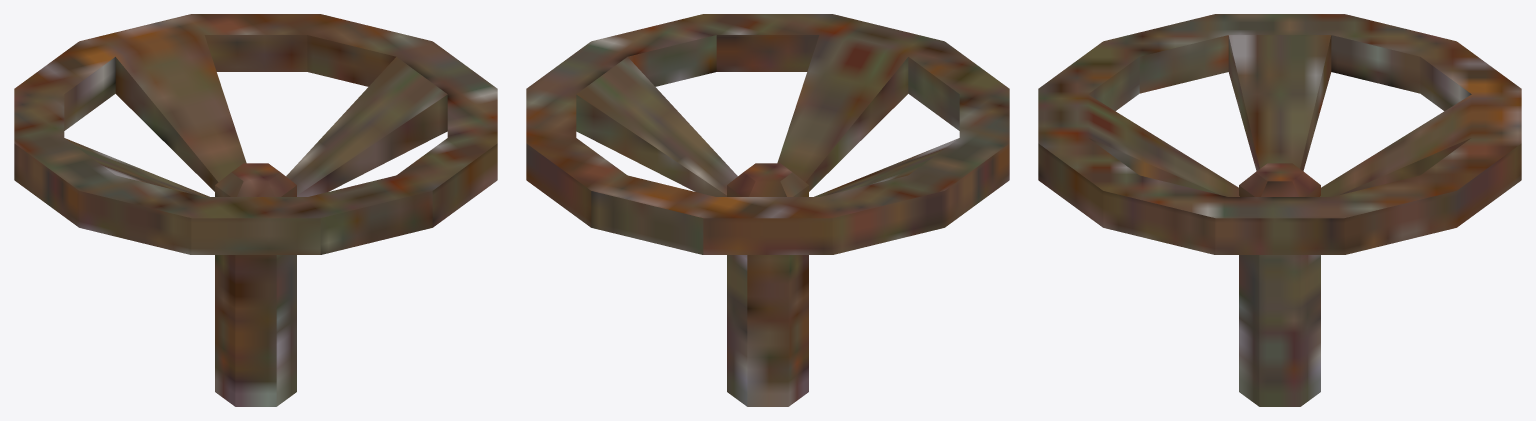
The model's file is Pipe_Set_3_11.glb.
The picture shows the model from 3 angles, left to right: view 1: azimuth 30°, elevation 25°; view 2: azimuth 150°, elevation 25°; view 3: azimuth 270°, elevation 25°; orthographic projection.
Parts seen in each view (by area): view 1: Pipe_Set_3_11; view 2: Pipe_Set_3_11; view 3: Pipe_Set_3_11.
Part boxes in pixels (x1,y1,x2,y2): Pipe_Set_3_11: (14, 14, 497, 406); Pipe_Set_3_11: (526, 14, 1009, 406); Pipe_Set_3_11: (1038, 14, 1521, 406).
Bounding box in the file's own units: 0.1002 × 0.0631 × 0.1002.
Materials: 1 (1 with a texture image).
